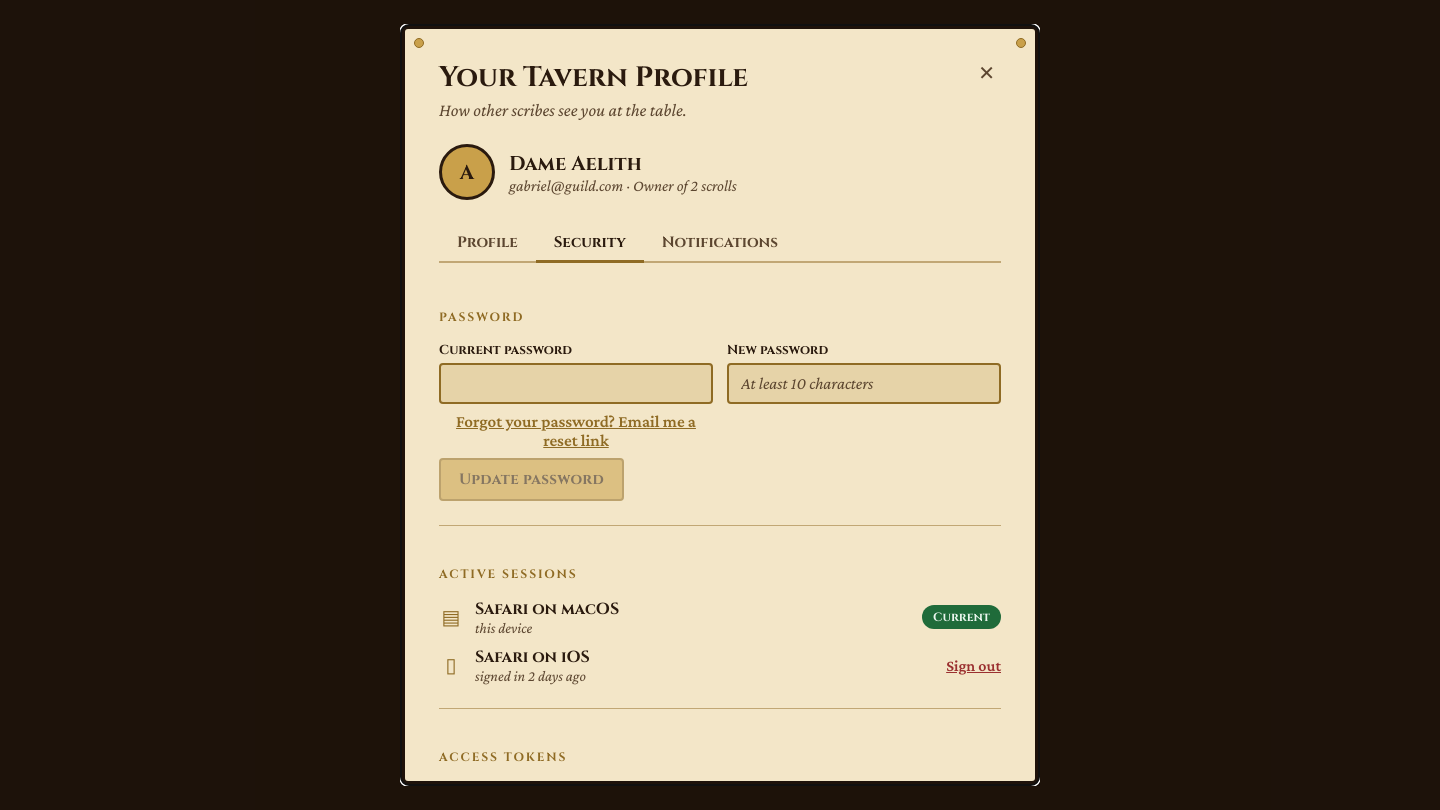
ProfileModalComponent › security › shows the server's reason when the password cannot be changed
The width and height of the screenshot is (1440, 810).
Type "wrong" into the password field named "cur" at [576, 384], box [439, 363, 713, 404]
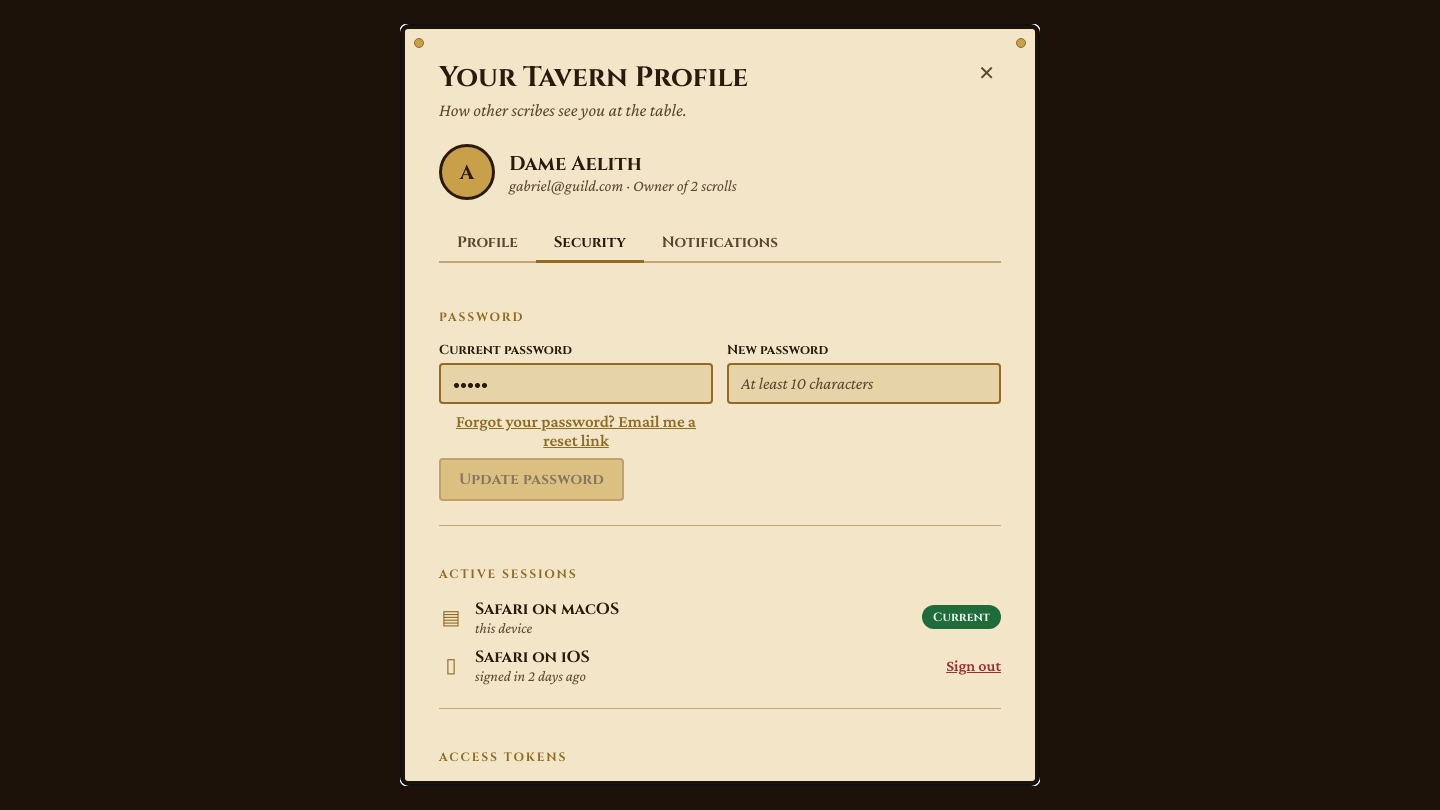
Type "a brand new passphrase" into the password field named "new" at [864, 384], box [727, 363, 1001, 404]
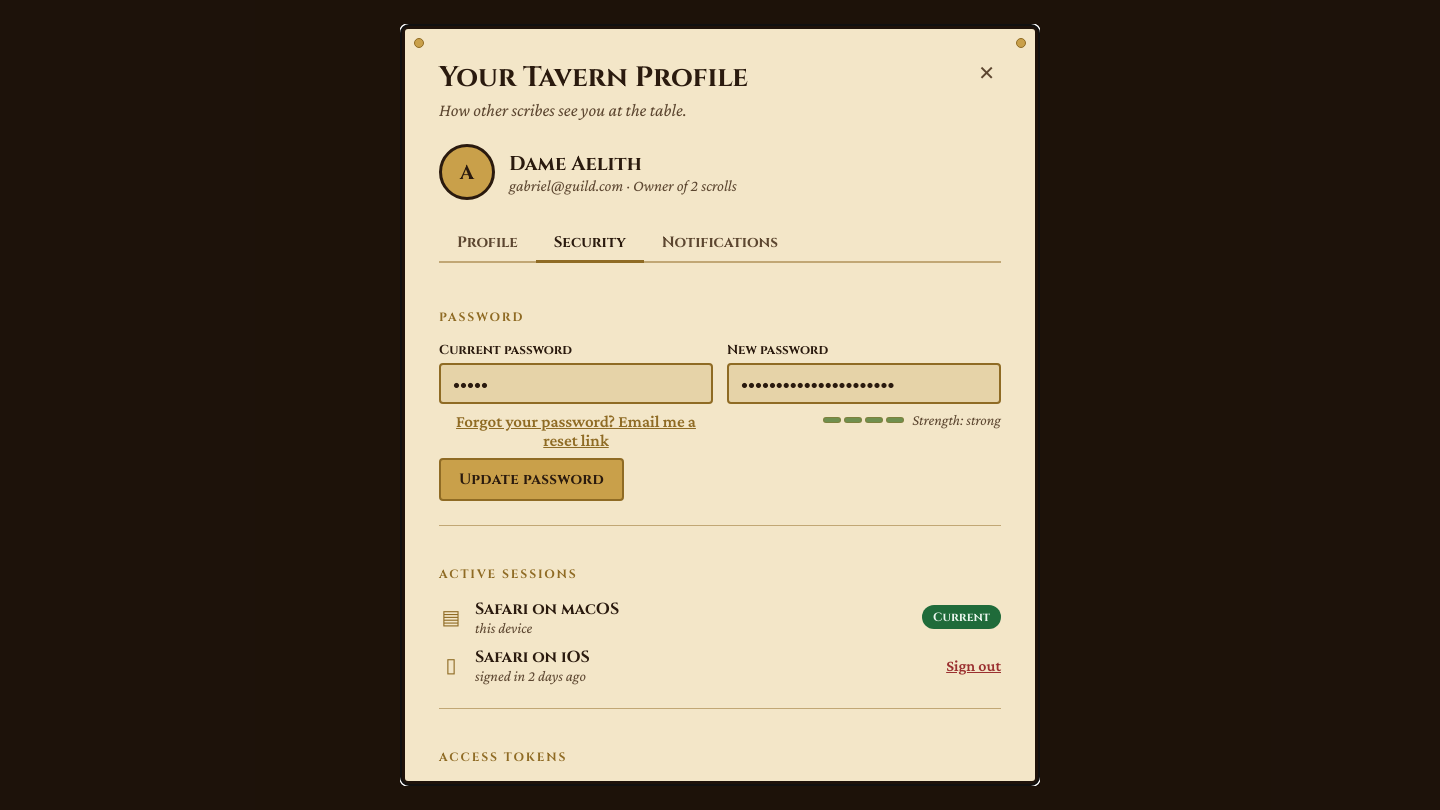
Submit the form, box [439, 341, 1001, 501]
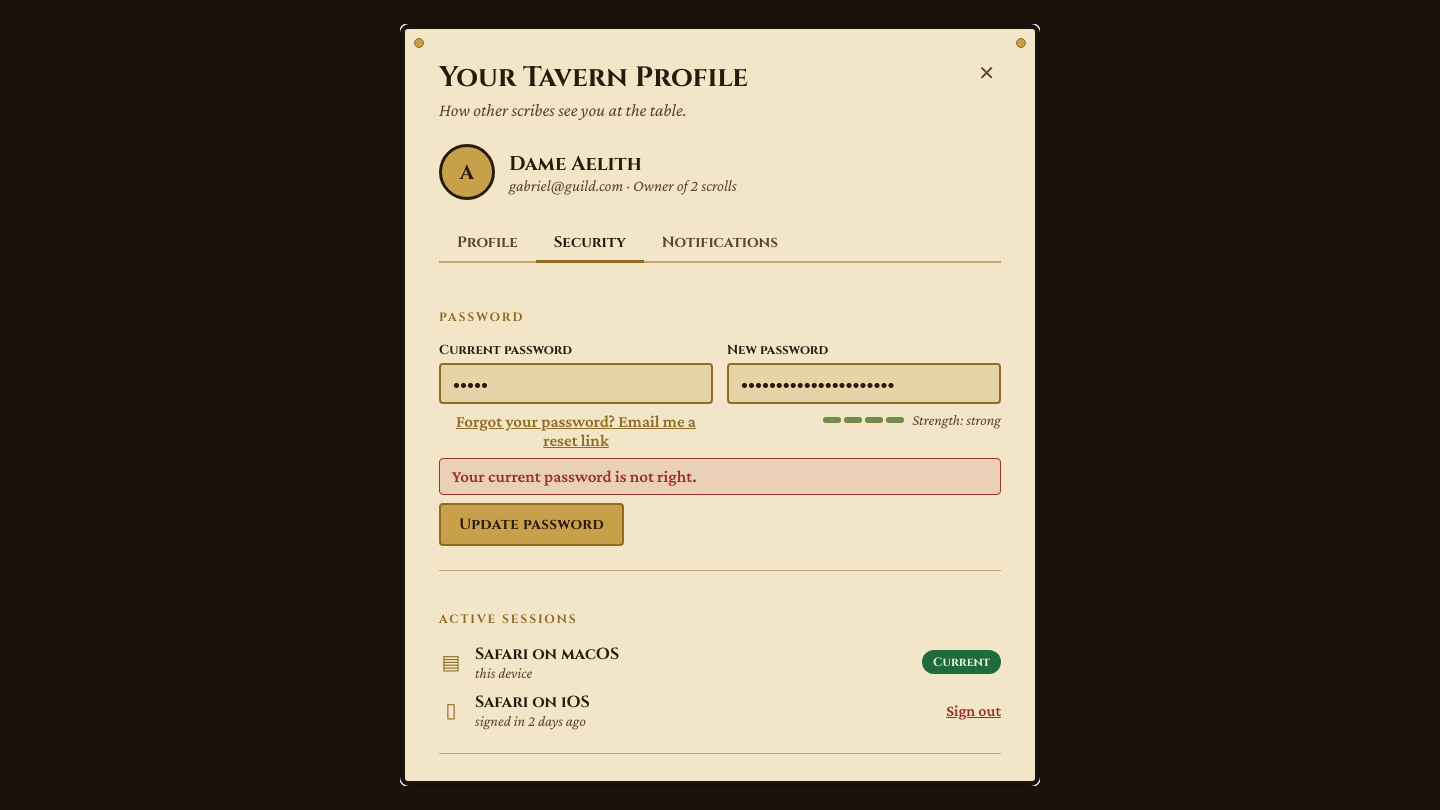
Check: the message with class "alert" shows "current password is not right", box [452, 467, 697, 486]
